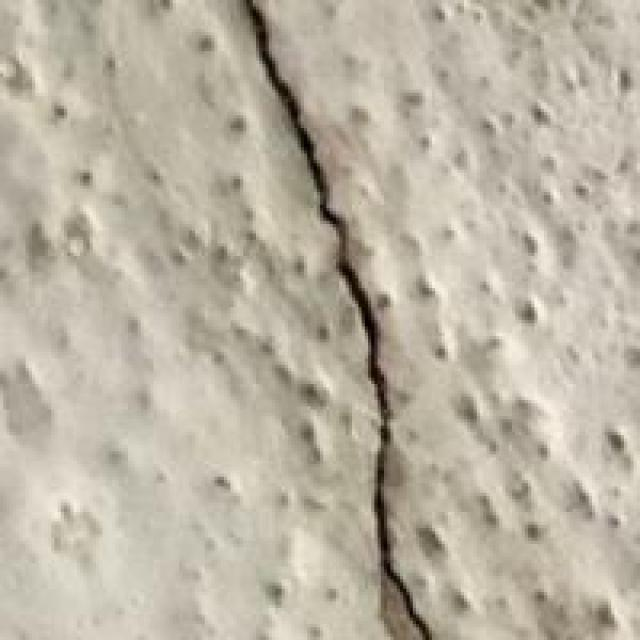crack: (198, 0, 458, 637)
